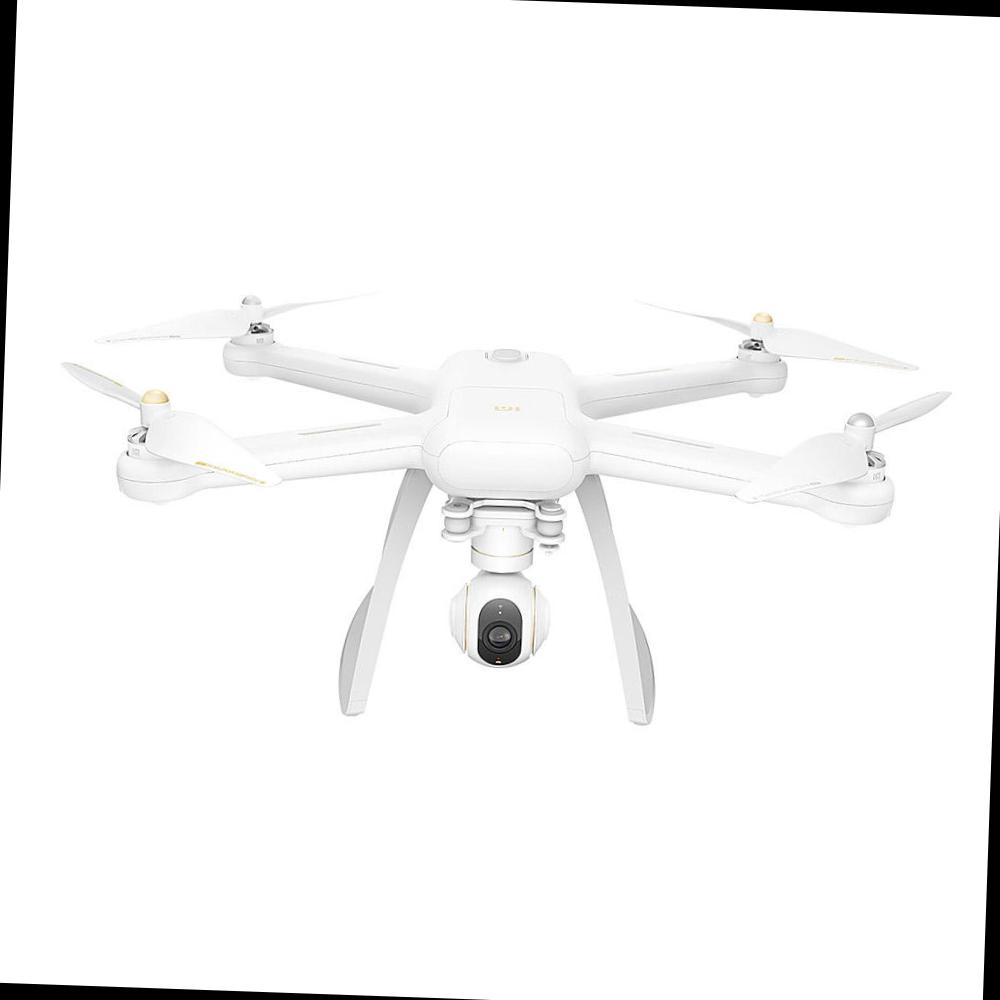drone: (22, 252, 976, 600)
